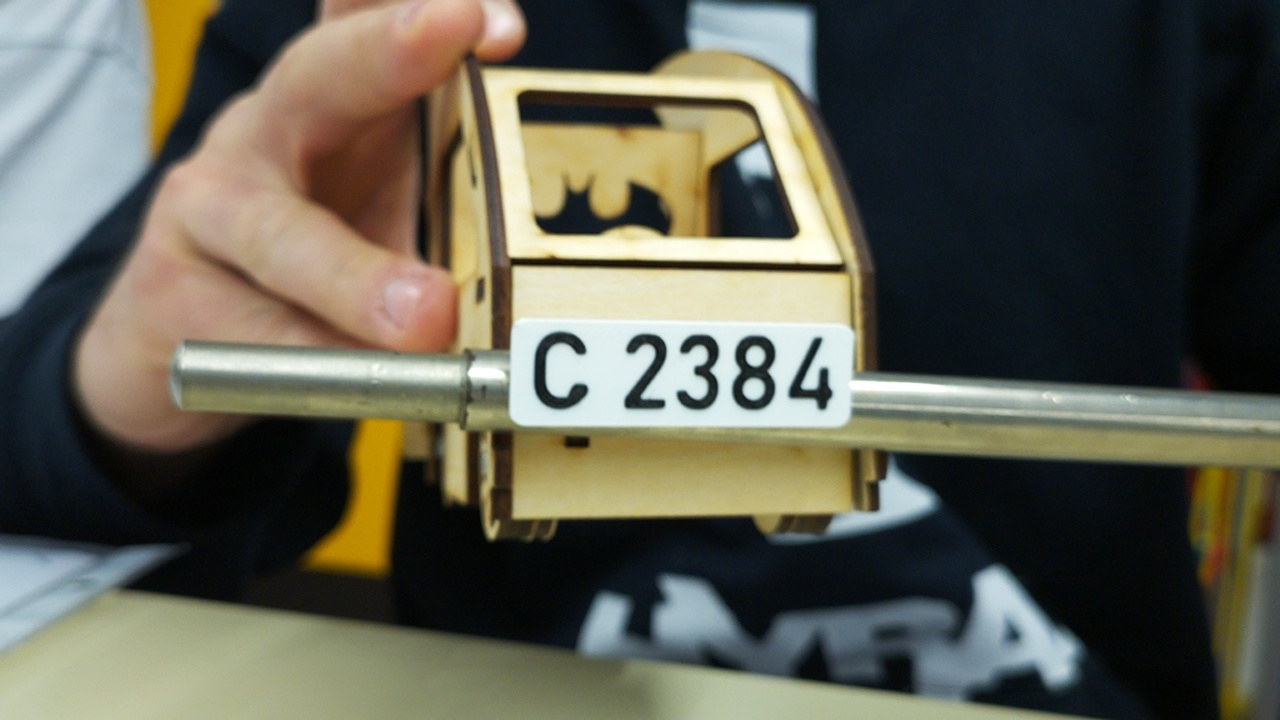license_plate: (507, 315, 856, 430)
